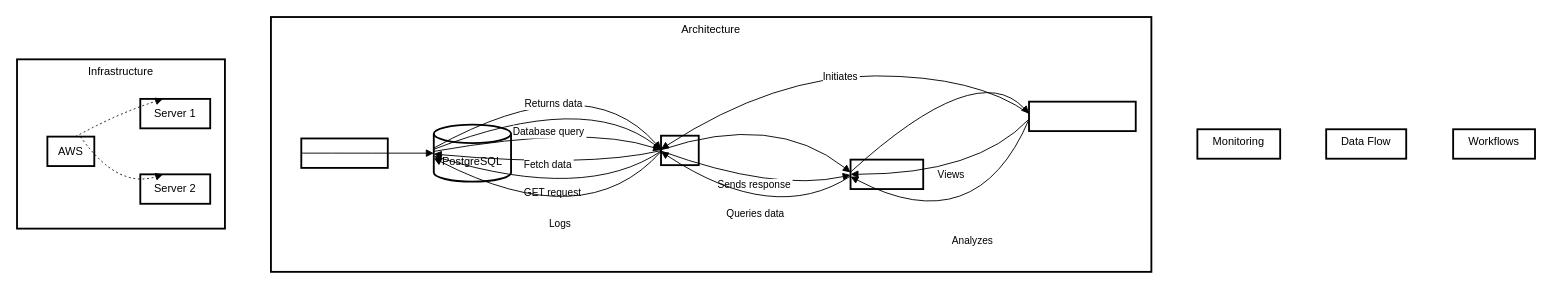
This 1551x288 diagram has some shape labels left out. Here are the shapes that lost their labels. From the top down, the centre of each, then its label:
(1082,116): Flutter Mobile App
(344,152): NestJS Backend
(679,150): API Gateway
(886,174): Next.js Frontend
